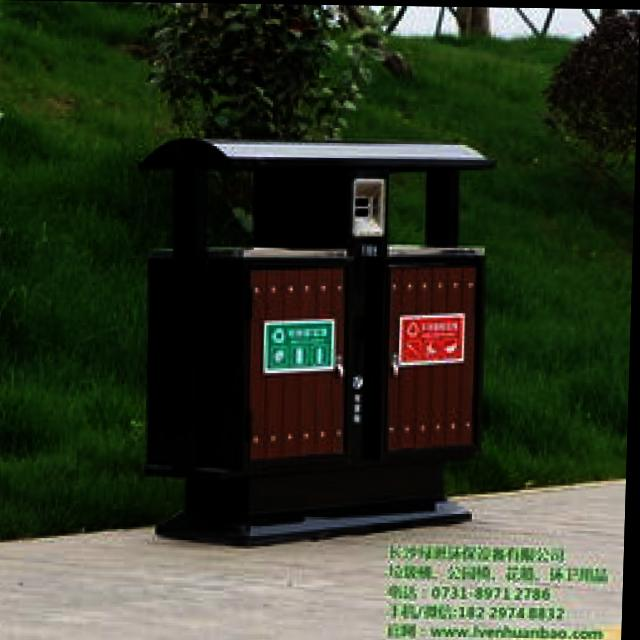garbage_bin: (125, 132, 496, 548)
